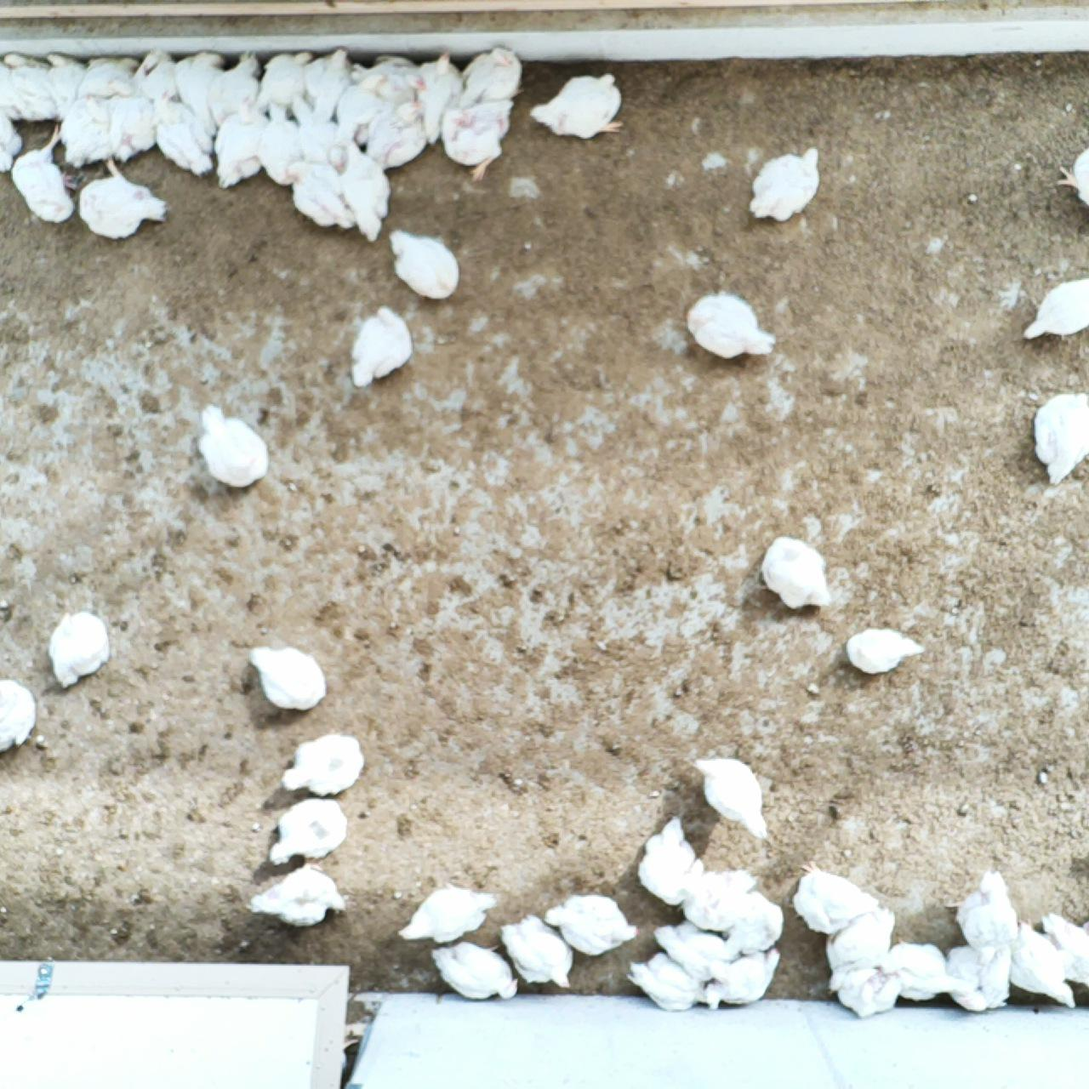chicken: (679, 285, 779, 369), (78, 157, 172, 242), (784, 856, 881, 937), (689, 751, 774, 843), (541, 889, 642, 964), (529, 68, 628, 144), (1005, 914, 1079, 1015), (9, 123, 79, 228), (395, 879, 502, 947), (821, 900, 896, 997), (248, 859, 347, 931), (942, 866, 1025, 951), (495, 911, 578, 995), (437, 94, 516, 182), (334, 136, 396, 246), (196, 402, 272, 490), (745, 143, 825, 225), (881, 934, 969, 1008), (428, 938, 522, 1007), (278, 728, 369, 799), (759, 531, 834, 617), (1026, 387, 1089, 487), (245, 639, 330, 713), (265, 797, 351, 870), (279, 155, 358, 232), (347, 304, 415, 392), (635, 813, 701, 903), (386, 227, 461, 304), (211, 93, 269, 191), (45, 606, 111, 692), (151, 87, 215, 175), (679, 866, 760, 935), (1018, 270, 1089, 348), (360, 95, 430, 170), (626, 951, 708, 1015), (718, 889, 786, 963), (947, 939, 1013, 1015), (250, 98, 305, 188), (415, 48, 464, 148), (842, 623, 926, 680), (708, 944, 782, 1008), (651, 918, 727, 979), (175, 51, 230, 134), (302, 43, 359, 120), (285, 91, 345, 164), (833, 964, 907, 1023), (460, 46, 528, 110), (1, 49, 58, 124), (58, 92, 111, 172), (256, 50, 316, 120), (1040, 905, 1089, 989), (350, 52, 427, 104), (212, 50, 262, 127), (336, 72, 387, 142), (108, 94, 156, 167), (0, 676, 38, 759), (76, 54, 142, 101), (1052, 138, 1089, 216), (43, 51, 83, 121), (132, 46, 178, 101), (0, 111, 25, 176)
